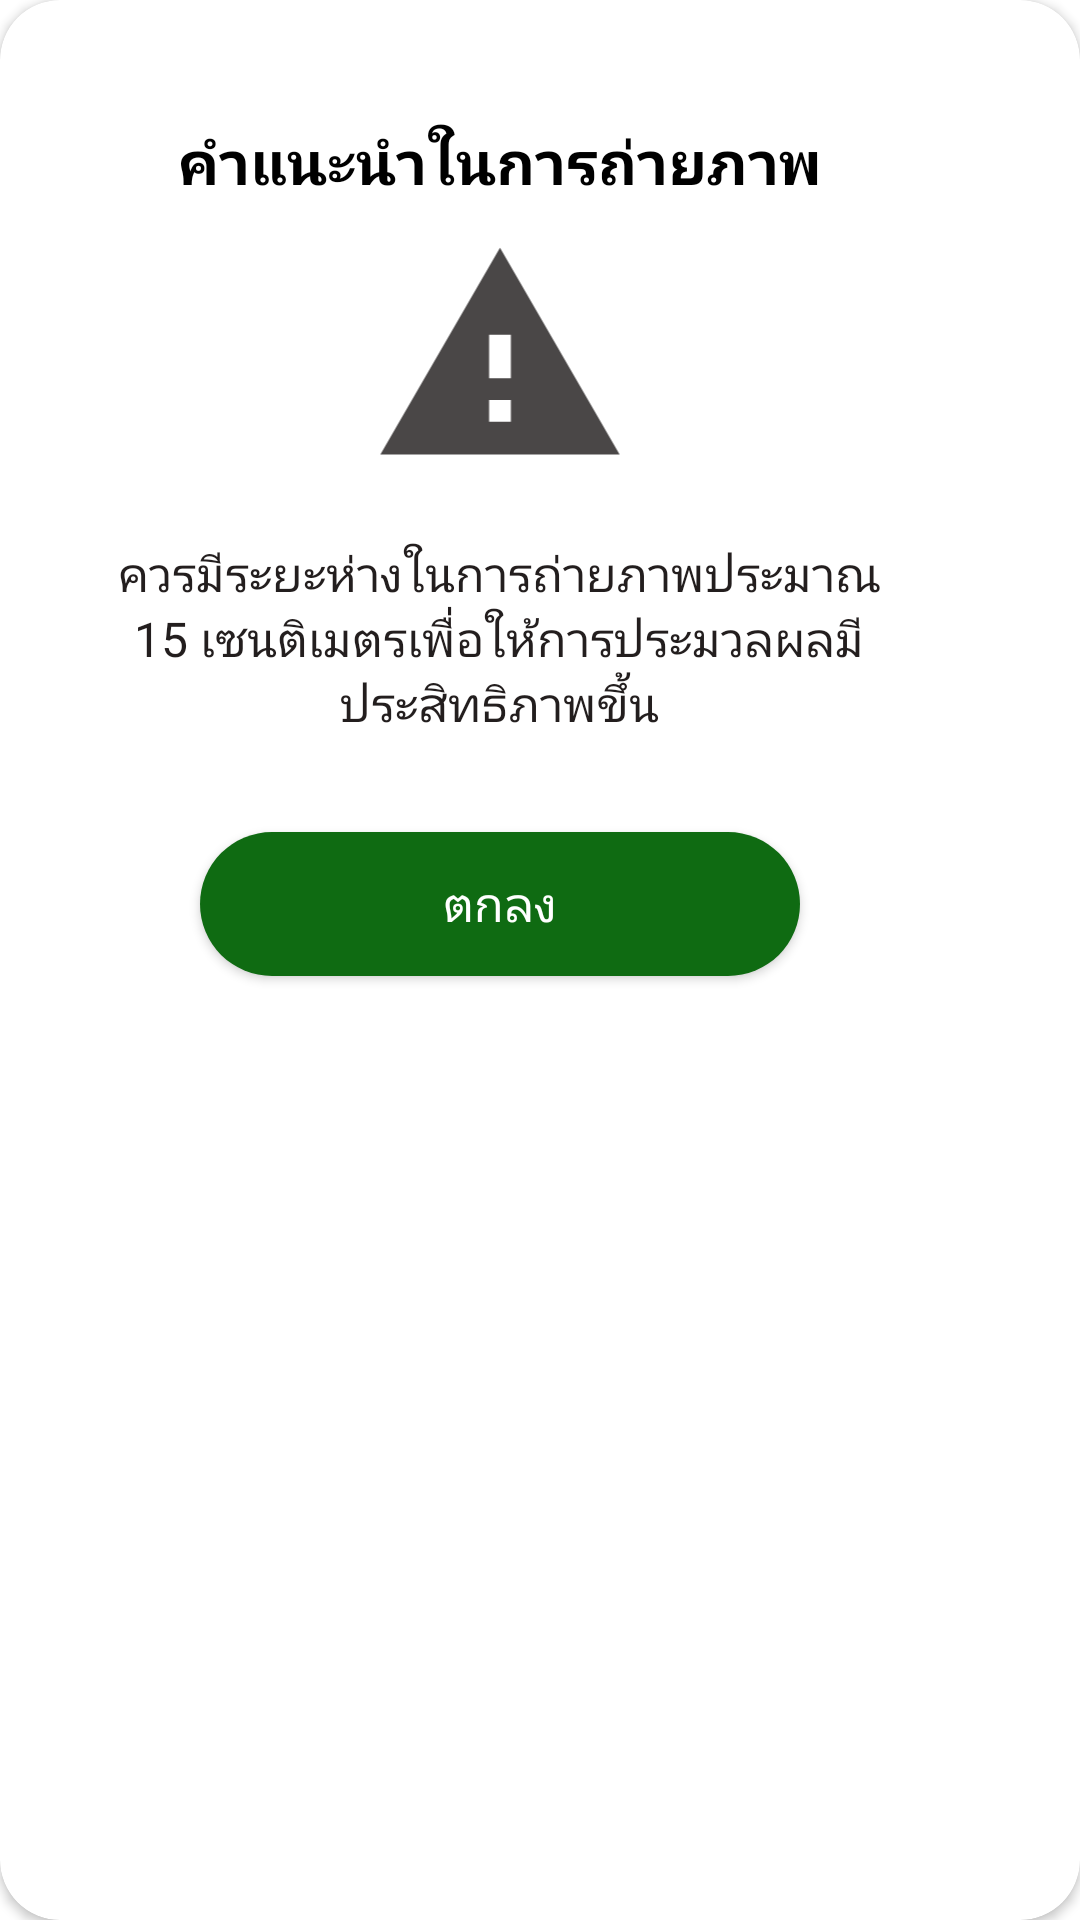

Where icons sit on this 1080 x 1920 app screen, as box=[x1, y1, x2, y2]:
warning: box=[380, 248, 620, 455]
